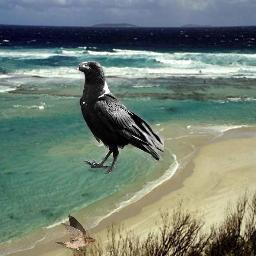Crow: (74, 59, 164, 174)
Swallow: (55, 215, 95, 251)
